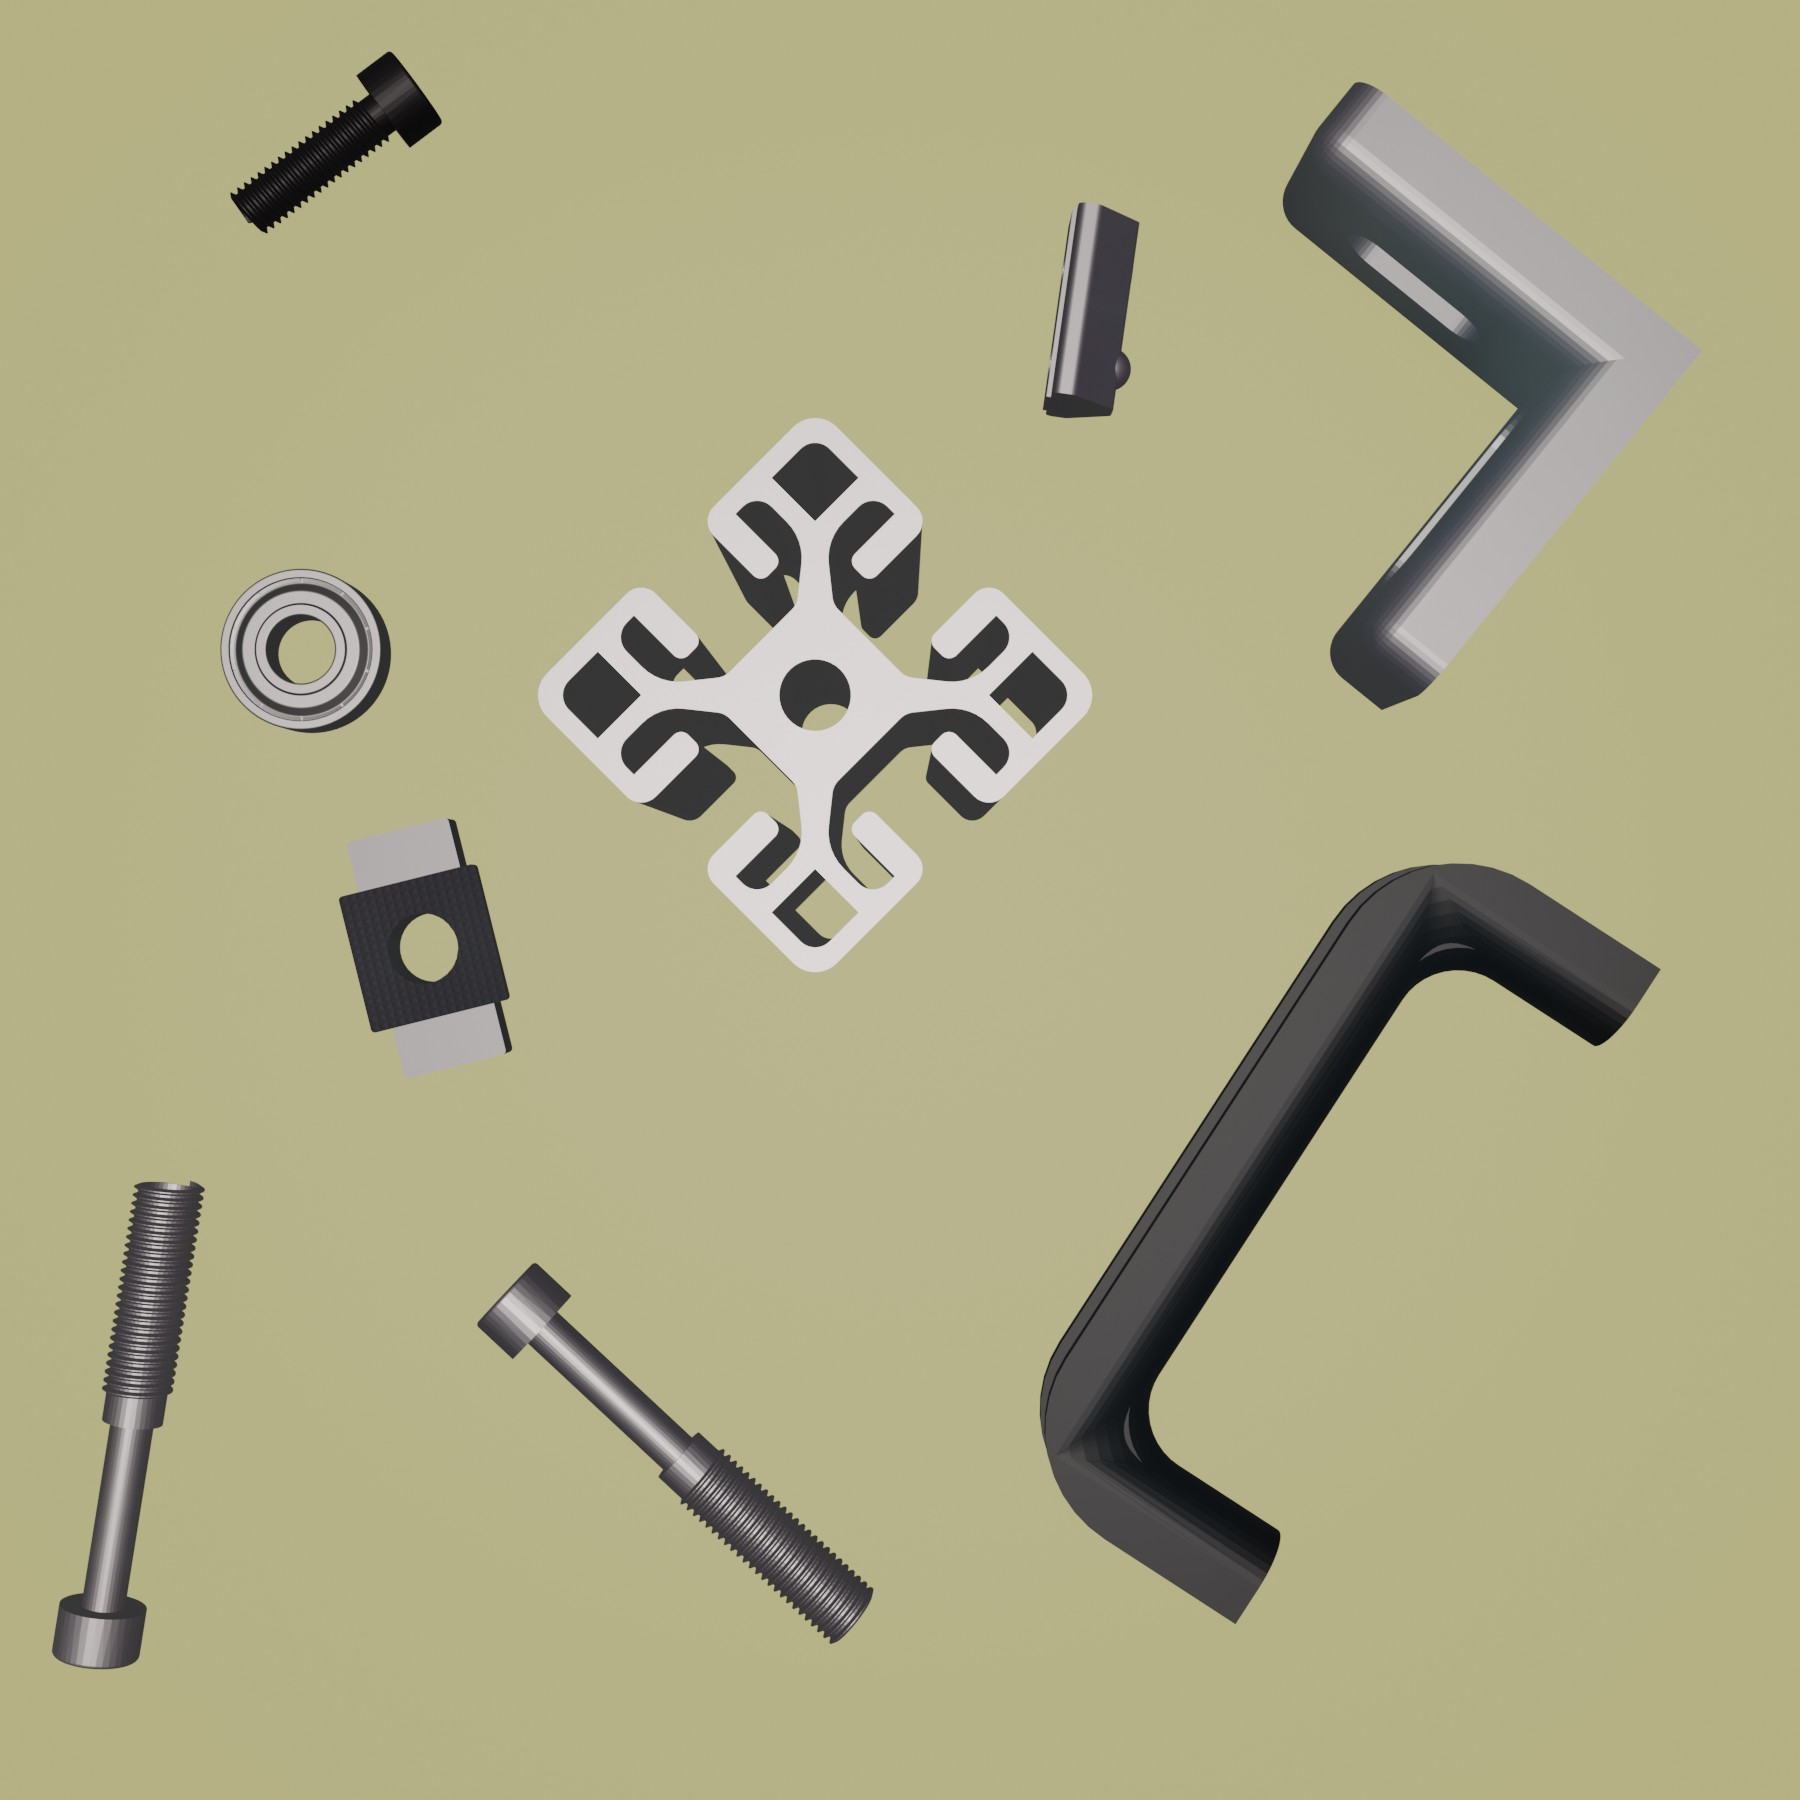Aluminium Extension: (536, 414, 1096, 977)
Ball Bearing: (218, 564, 392, 737)
Multiwinkel: (1279, 81, 1708, 714)
Pull Handle: (1038, 860, 1662, 1624)
Shoulder Socket Head Cap Screw: (476, 1259, 879, 1648), (48, 1174, 209, 1675)
Socket Head Cap Screw: (227, 48, 442, 236)
T Nut Square: (335, 813, 516, 1080)
T Spring Nut: (1038, 196, 1142, 422)
